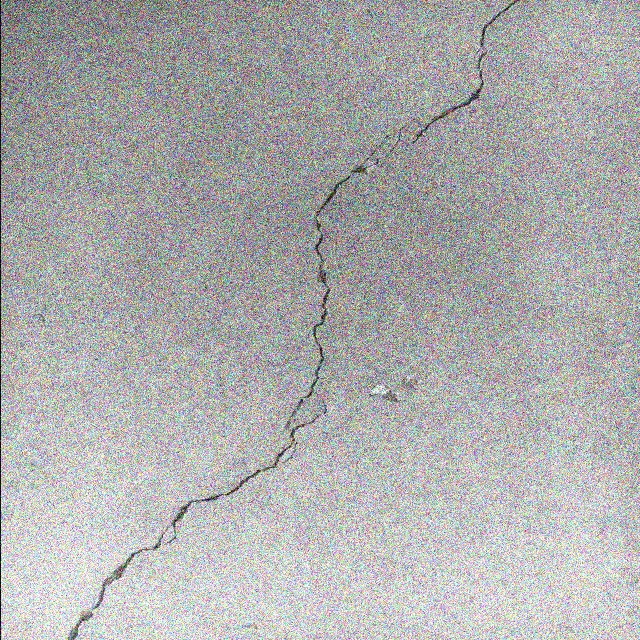SurfaceCrack: (53, 0, 638, 638)
